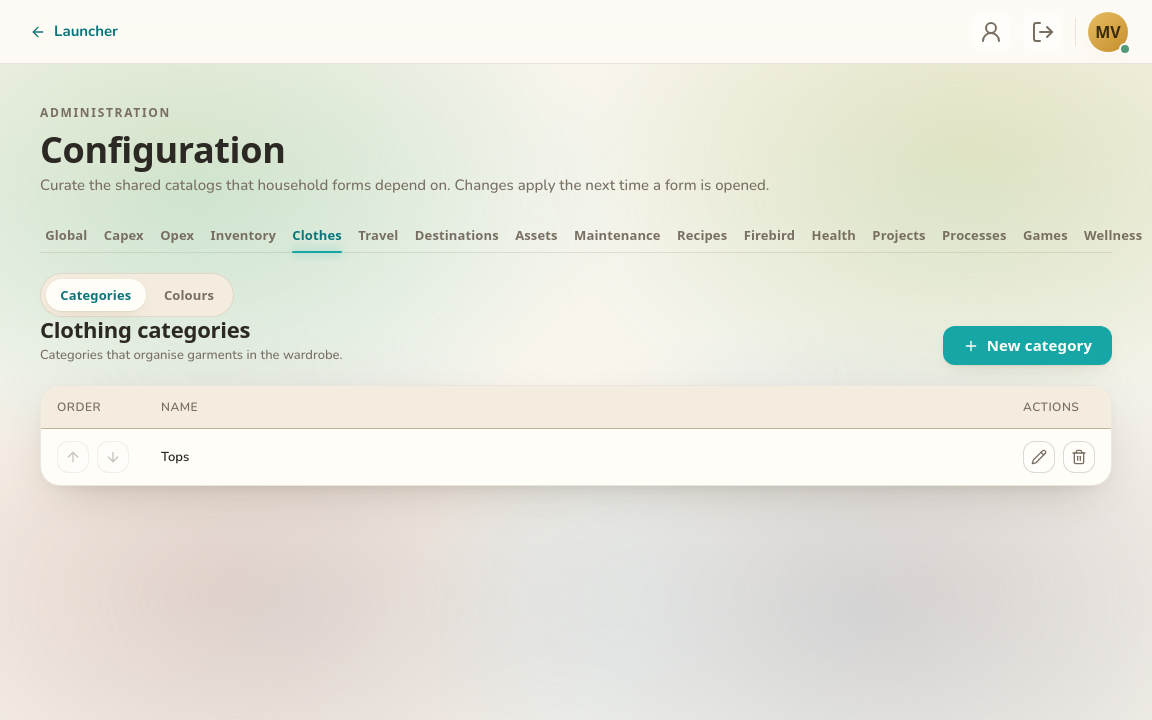
Test case: Configuration navigation and states › shows the Clothes catalog tabs and the colour swatch column
Expected: the heading "Clothing categories" is shown, [40,314,250,344]
Expected: the text "Tops" is shown, [145,429,1007,485]
Click the tab "Colours" at (189, 295), box [150,279,228,311]
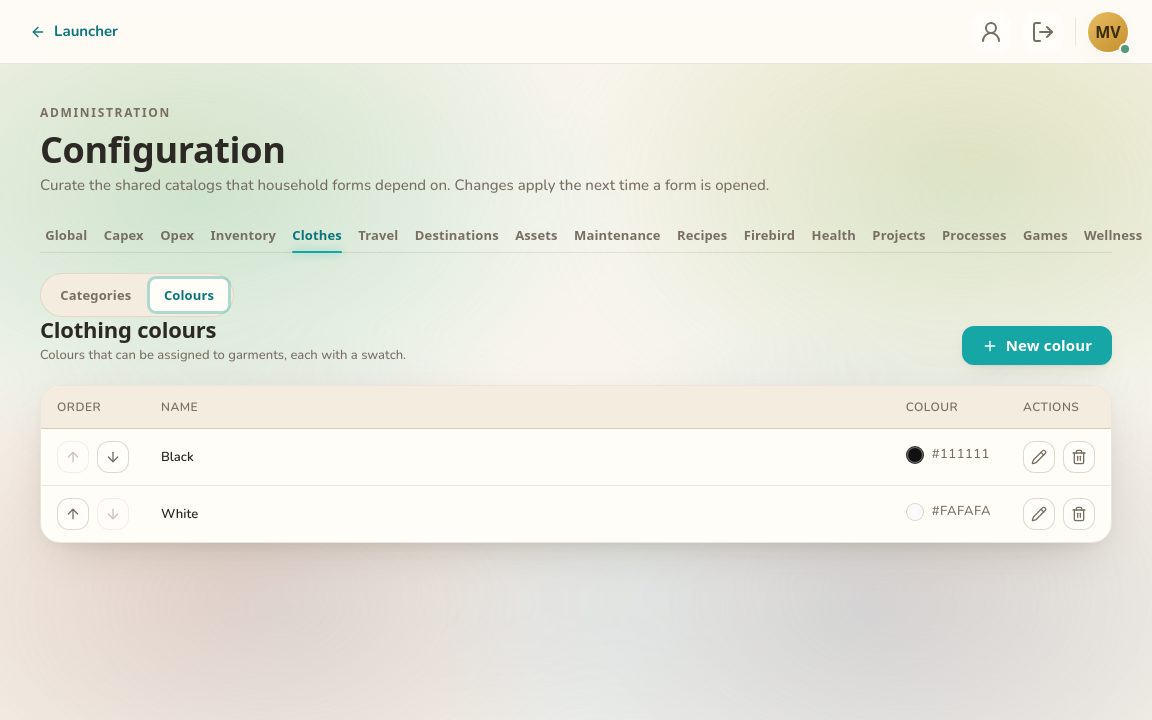
Now the heading "Clothing colours" is shown, box [40,314,216,344]
Now the text "Black" is shown, box [145,429,890,486]
Now the column heading "Colour" is shown, box [890,386,1007,429]
